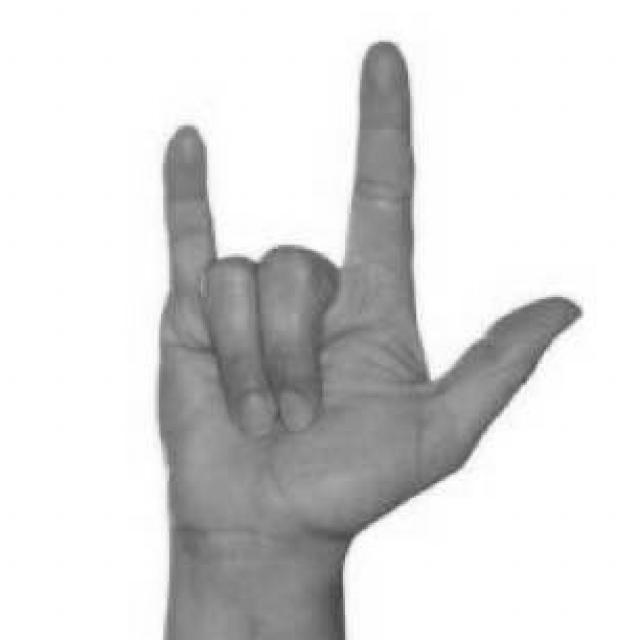i love you: (146, 34, 592, 561)
